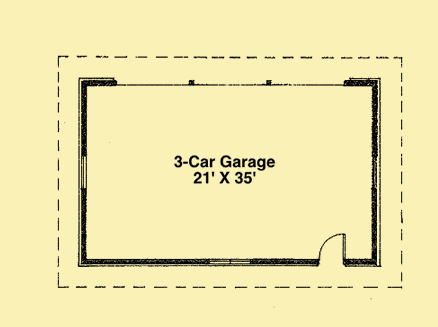door: (318, 230, 346, 264)
window: (76, 153, 88, 189), (208, 257, 250, 267)
